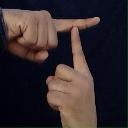hand: (0, 8, 100, 63), (45, 26, 98, 127)
